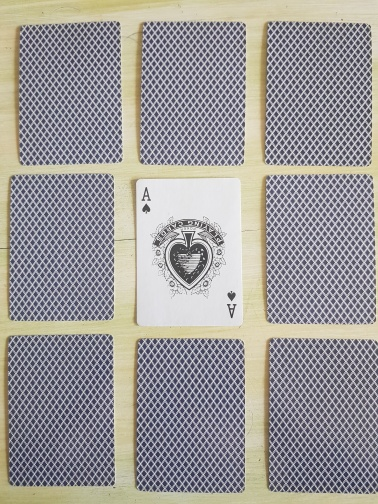ace: (134, 178, 245, 326)
